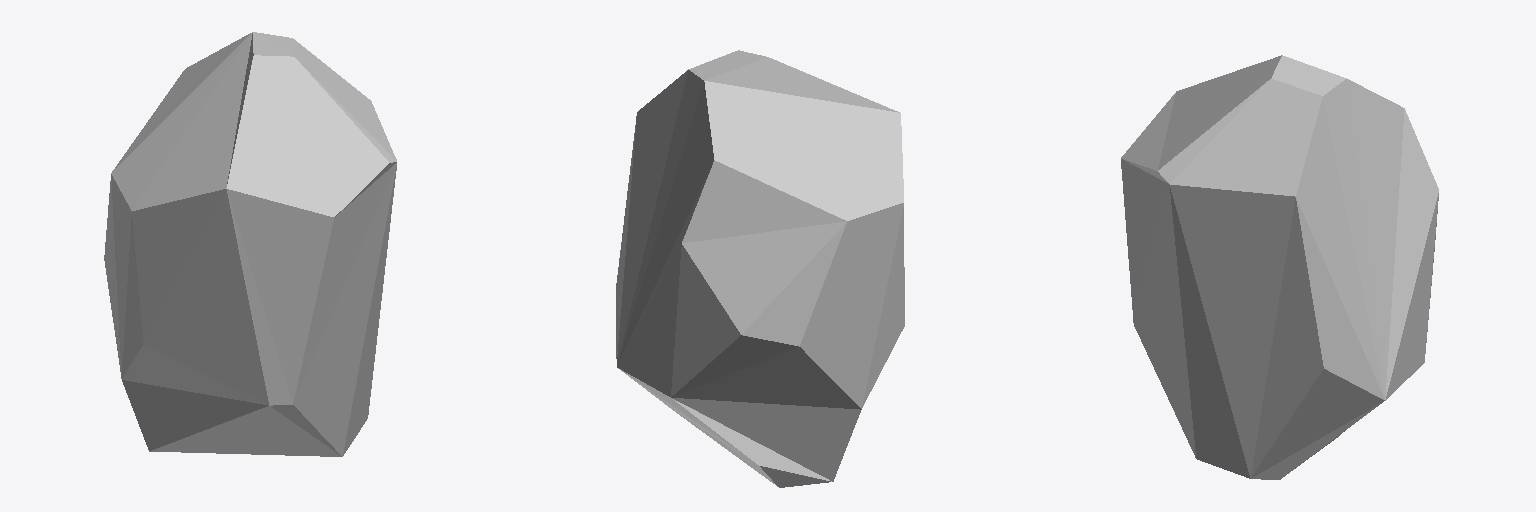
File: Rock3.obj
3 renders of one model, left to right at view 1: azimuth 30°, elevation 25°; view 2: azimuth 150°, elevation 25°; view 3: azimuth 270°, elevation 25°, orthographic.
Visible parts, largest first — view 1: Rock_3; view 2: Rock_3; view 3: Rock_3.
Part boxes in pixels (x1,y1,x2,y2): Rock_3: (104, 32, 396, 456); Rock_3: (616, 50, 904, 487); Rock_3: (1121, 55, 1438, 479).
Bounding box in the file's own units: 1.52 × 2.24 × 1.61.